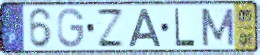6: (27, 6, 54, 51)
A: (127, 8, 163, 49)
G: (56, 7, 86, 50)
L: (173, 7, 196, 48)
M: (199, 7, 236, 48)
Z: (95, 7, 126, 49)
